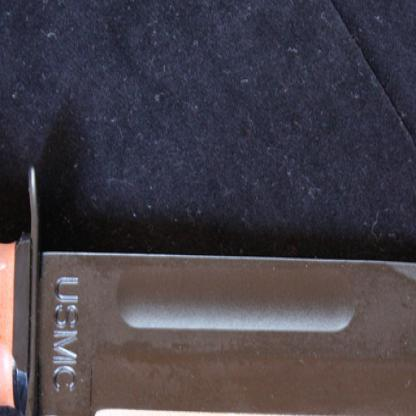knife: (0, 162, 415, 415)
